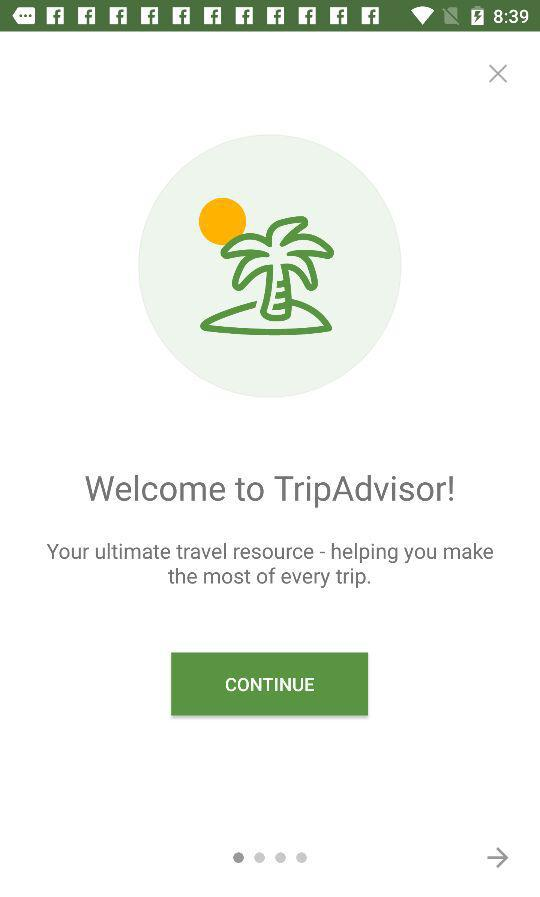Icon: (487, 847, 509, 869), (488, 64, 508, 85)
Image: (138, 135, 402, 399)
PageIndicator: (232, 851, 309, 865)
Text: (47, 542, 494, 589), (85, 474, 454, 510)
TextButton: (171, 652, 369, 717)
UpperTaskBar: (1, 1, 540, 33)
